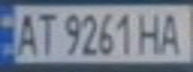1: (112, 9, 136, 55)
2: (78, 9, 100, 56)
6: (97, 9, 118, 56)
9: (60, 9, 84, 56)
A: (154, 8, 190, 55), (9, 8, 42, 56)
H: (136, 8, 166, 55)
T: (33, 9, 60, 55)
